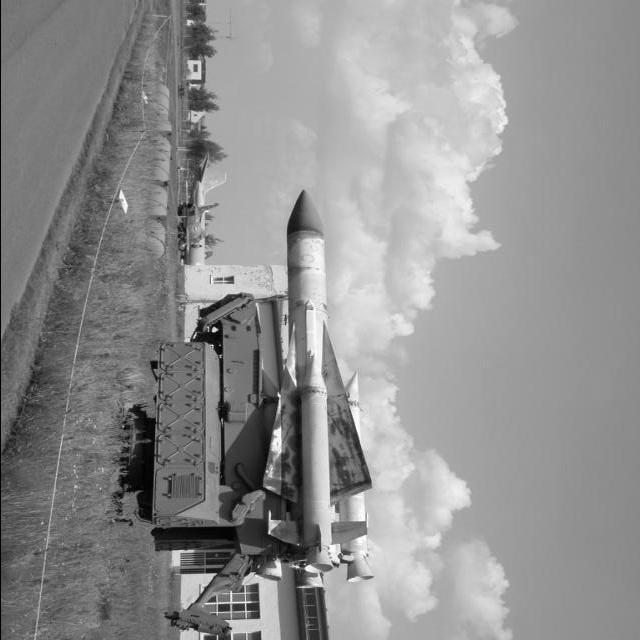missile: (284, 189, 334, 590)
